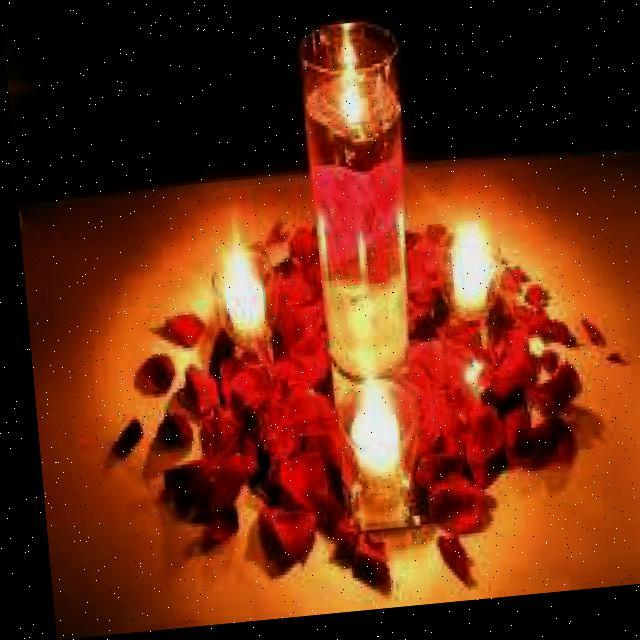Fire: (202, 232, 268, 346), (430, 218, 490, 306), (334, 375, 396, 452), (316, 49, 366, 124)
